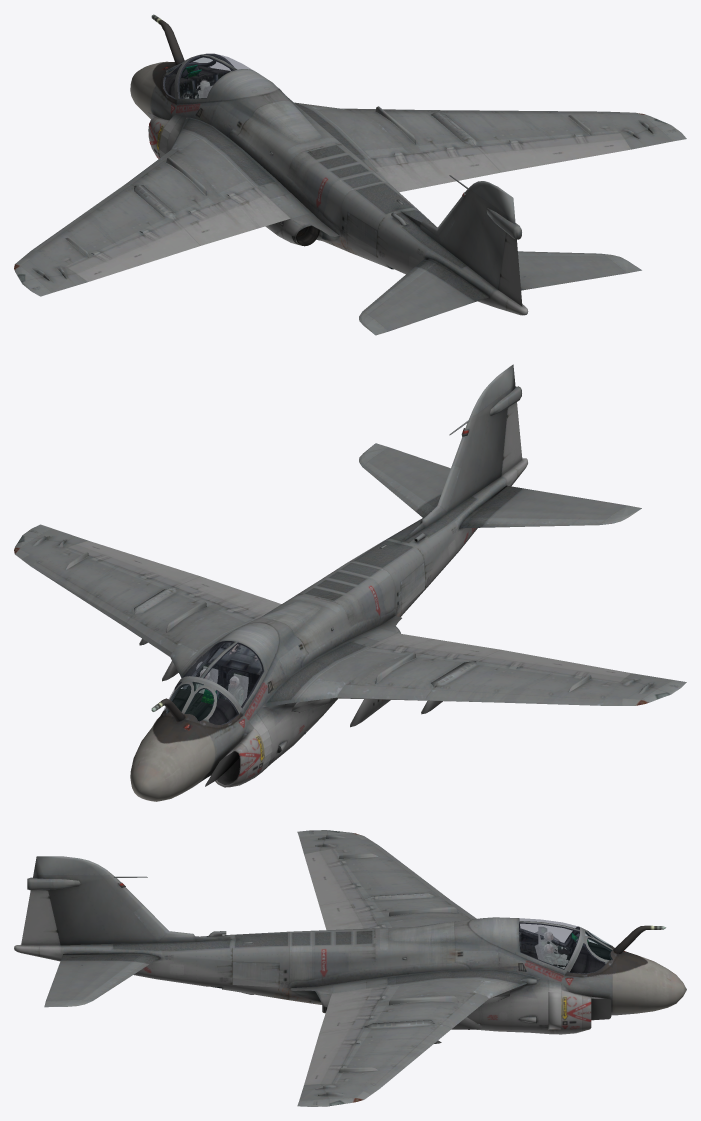
3 renders of one model, top to bottom at view 1: azimuth 30°, elevation 25°; view 2: azimuth 150°, elevation 25°; view 3: azimuth 270°, elevation 25°, orthographic. The views are drawn at different scales.
Parts seen in each view (by area): view 1: A-6_.025, A-6_.017, A-6_.018, A-6_.020, A-6_.019, A-6_.001, A-6_.012, A-6_, A-6_.022, A-6_.028, A-6_.009, A-6_.004 (+5 smaller); view 2: A-6_.025, A-6_.017, A-6_.018, A-6_.022, A-6_.012, A-6_.021, A-6_.029, A-6_.020, A-6_.019, A-6_.001, A-6_, A-6_.030 (+6 smaller); view 3: A-6_.025, A-6_.018, A-6_.012, A-6_.022, A-6_.028, A-6_.020, A-6_, A-6_.001, A-6_.011, A-6_.019, A-6_.021, A-6_.031 (+6 smaller).
Part boxes in pixels (x1,y1,x2,y2): A-6_.025: (14,14,686,315); A-6_.017: (359,259,488,335); A-6_.018: (518,251,641,290); A-6_.020: (377,154,500,192); A-6_.019: (183,195,290,245); A-6_.001: (484,139,631,172); A-6_.012: (176,53,279,104); A-6_: (75,227,200,281); A-6_.022: (178,54,251,98); A-6_.028: (498,232,522,306); A-6_.009: (477,133,624,153); A-6_.004: (68,220,182,272); A-6_.025: (14,364,686,801); A-6_.017: (463,486,641,528); A-6_.018: (359,443,450,517); A-6_.022: (181,641,263,707); A-6_.012: (179,622,279,714); A-6_.021: (163,682,238,724); A-6_.029: (425,690,603,705); A-6_.020: (183,576,281,615); A-6_.019: (377,633,500,656); A-6_.001: (76,540,200,583); A-6_: (484,650,631,678); A-6_.030: (337,684,431,700); A-6_.025: (14,830,686,1106); A-6_.018: (44,954,158,1007); A-6_.012: (468,917,582,974); A-6_.022: (519,918,579,969); A-6_.028: (21,890,60,945); A-6_.020: (319,988,371,1033); A-6_: (304,850,349,905); A-6_.001: (304,1028,349,1085); A-6_.011: (232,961,286,987); A-6_.019: (319,901,365,930); A-6_.021: (570,931,611,973); A-6_.031: (373,1024,451,1088).
Size of the model in its own units: 16.1 by 4.5 by 16.57.
Materials: 4 (4 with a texture image).
